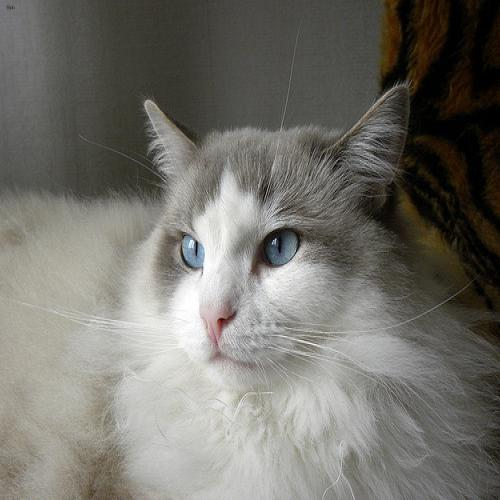ragdoll: (125, 63, 422, 394)
